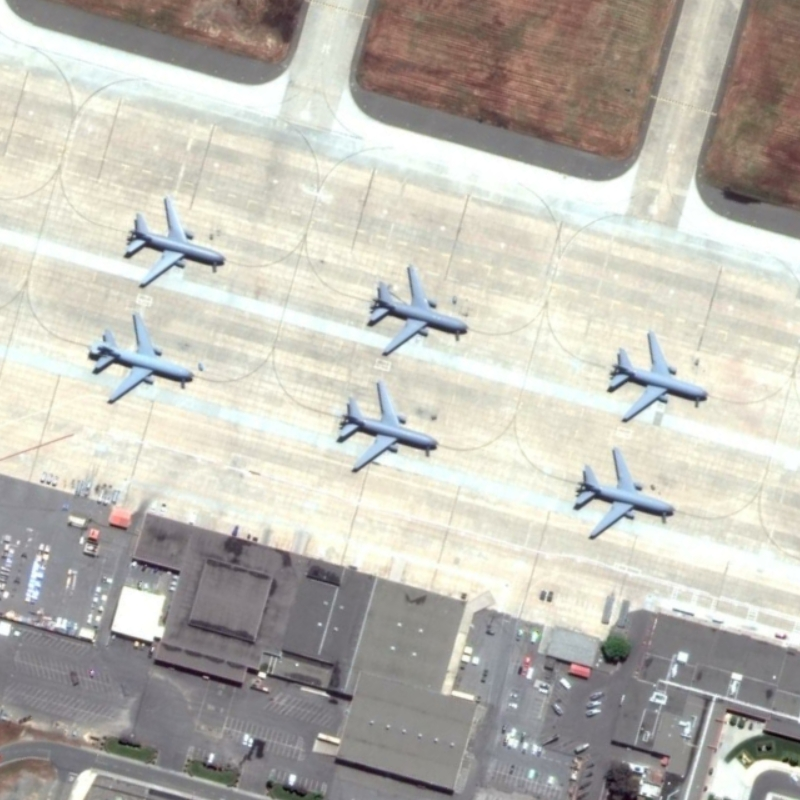A18: (120, 189, 230, 293), (567, 443, 680, 543), (84, 307, 197, 406), (332, 377, 442, 475), (364, 261, 471, 360), (606, 329, 714, 423)
